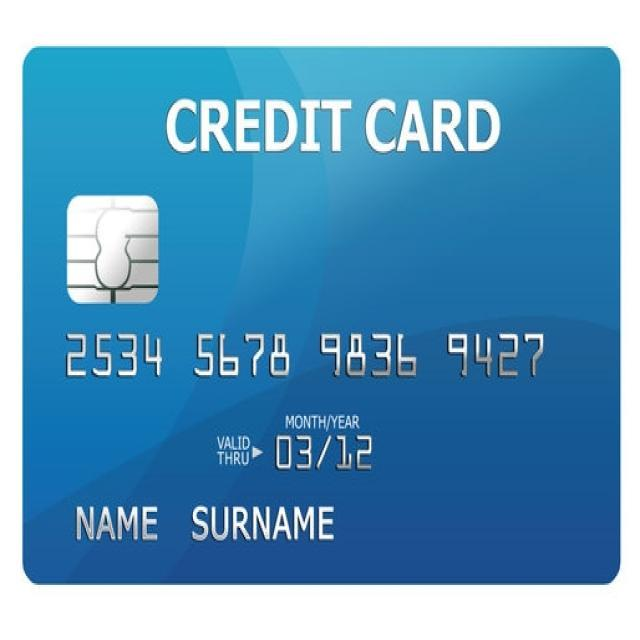payment_card: (21, 44, 622, 584)
